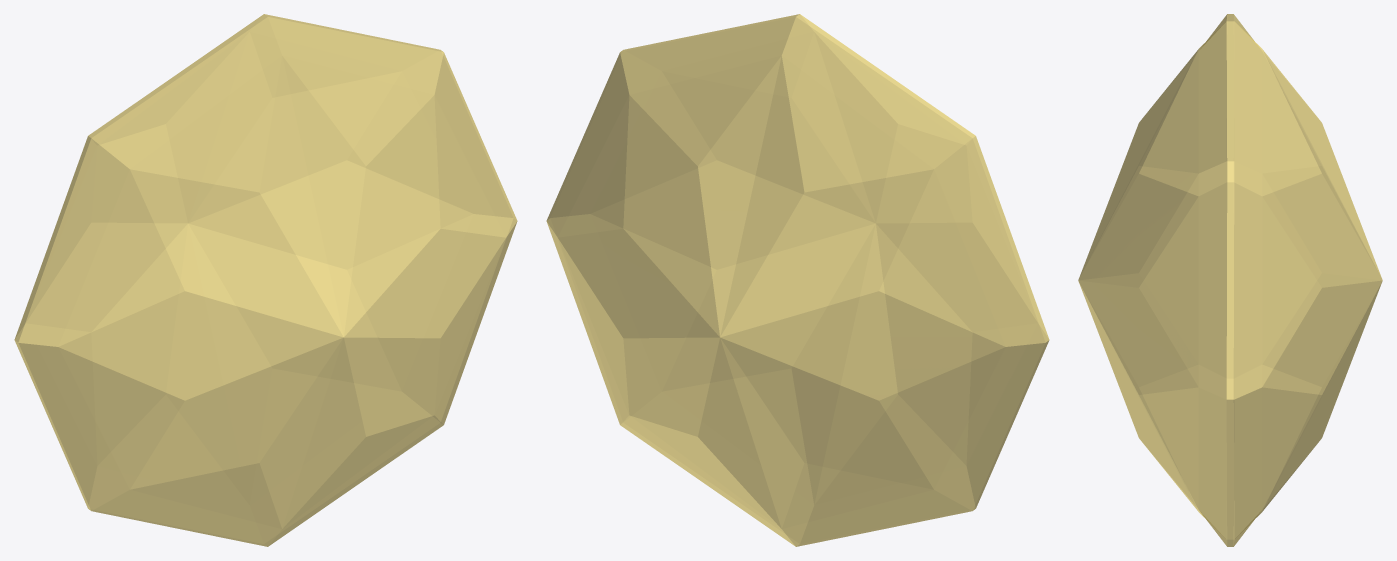
The model's file is rose saphire jaune.glb.
3 renders of one model, left to right at view 1: azimuth 30°, elevation 25°; view 2: azimuth 150°, elevation 25°; view 3: azimuth 270°, elevation 25°, orthographic. The views are drawn at different scales.
Parts seen in each view (by area): view 1: Cross Rose; view 2: Cross Rose; view 3: Cross Rose.
Boxes of the visible parts, x1,y1,x2,y2 form: Cross Rose: (14,14,517,546); Cross Rose: (546,14,1049,546); Cross Rose: (1078,14,1382,546).
Size of the model in its own units: 1.74 by 1.76 by 0.9396.
